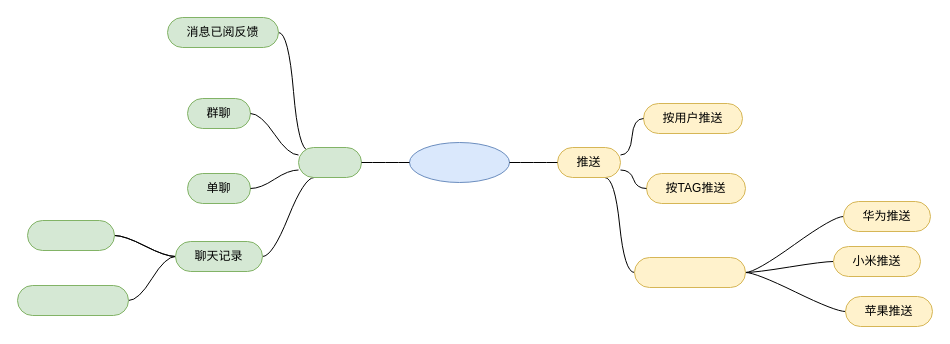
This 950x344 diagram has some shape labels left out. Here are the shapes that lost their labels. From the top down, the centre of each, then its label:
At (330,162): "聊天".
At (459,162): "幻影IM".
At (70,235): "查询记录".
At (690,272): "对接推送平台".
At (72,300): "删除聊天记录".
